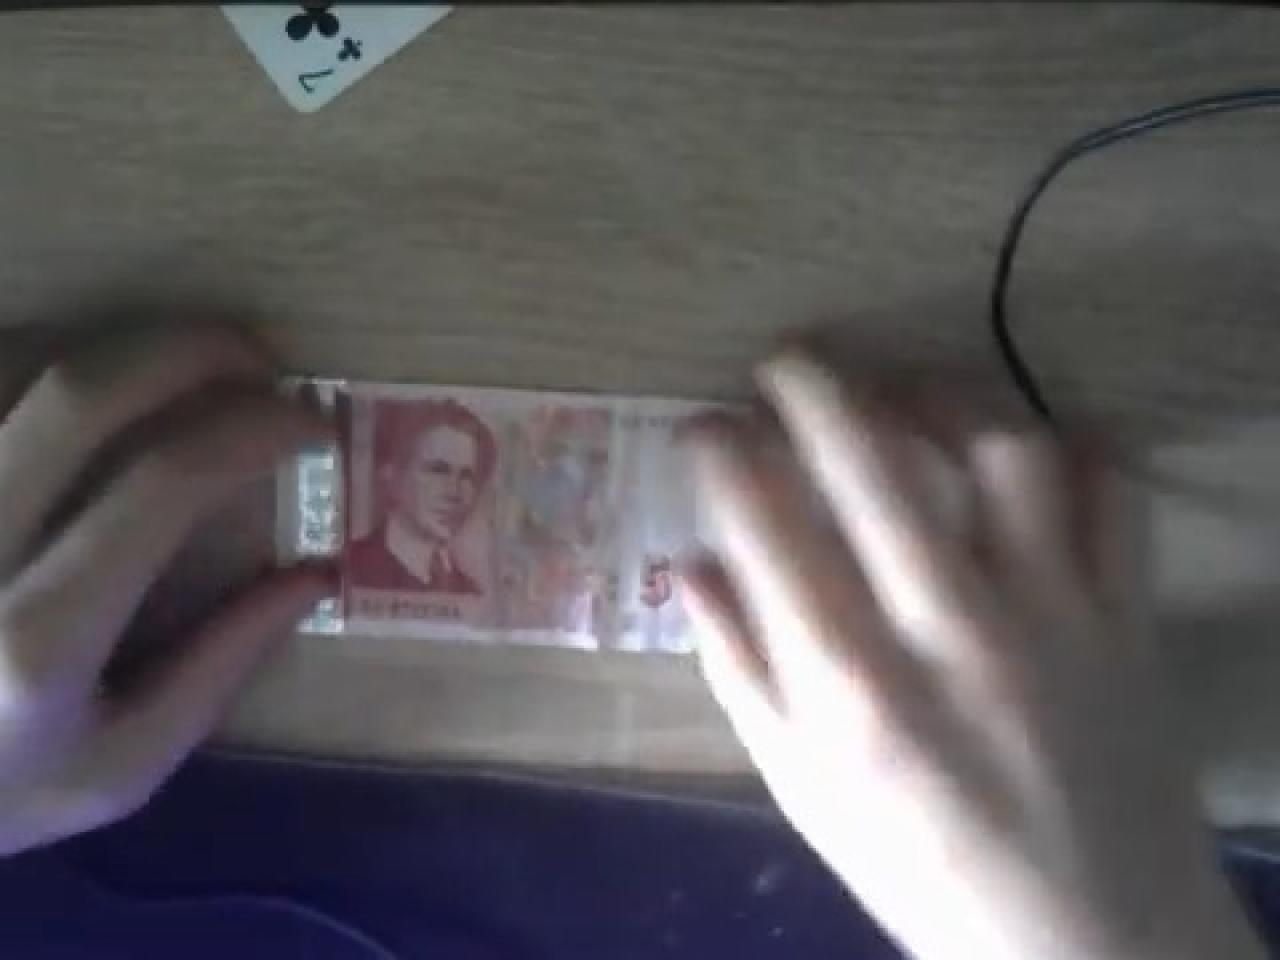5leva: (309, 379, 690, 650)
